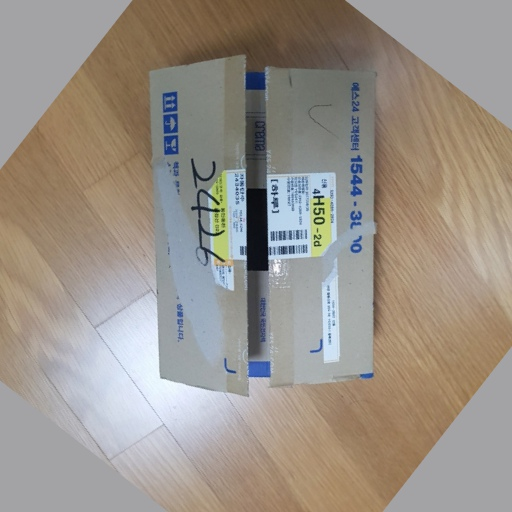Paper_0: (141, 53, 389, 397)
